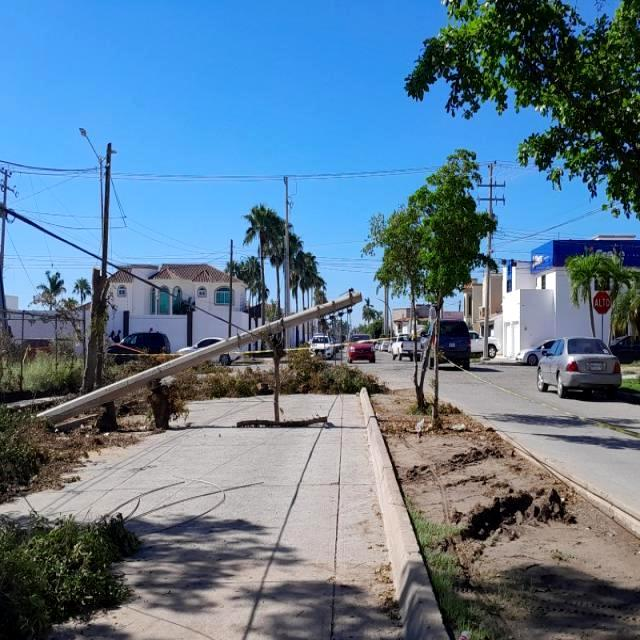Broken Pole: (35, 289, 362, 426)
